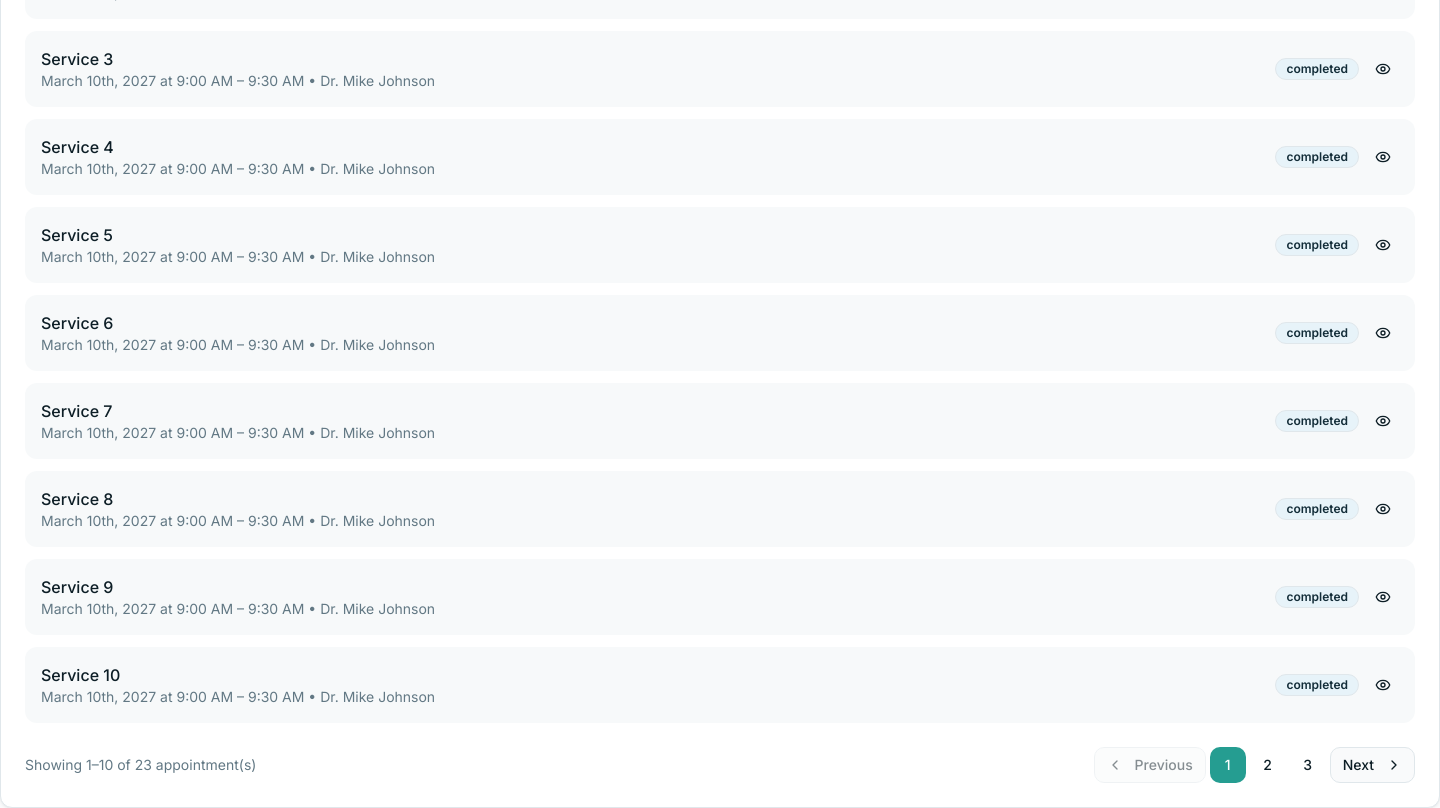
Scenario: My Appointments, one page at a time › shows the next ten on page two, and the remainder on the last page
(page scrolled)
Click the button named "Page 2". click: [1268, 765]
box: [1250,747,1286,783]
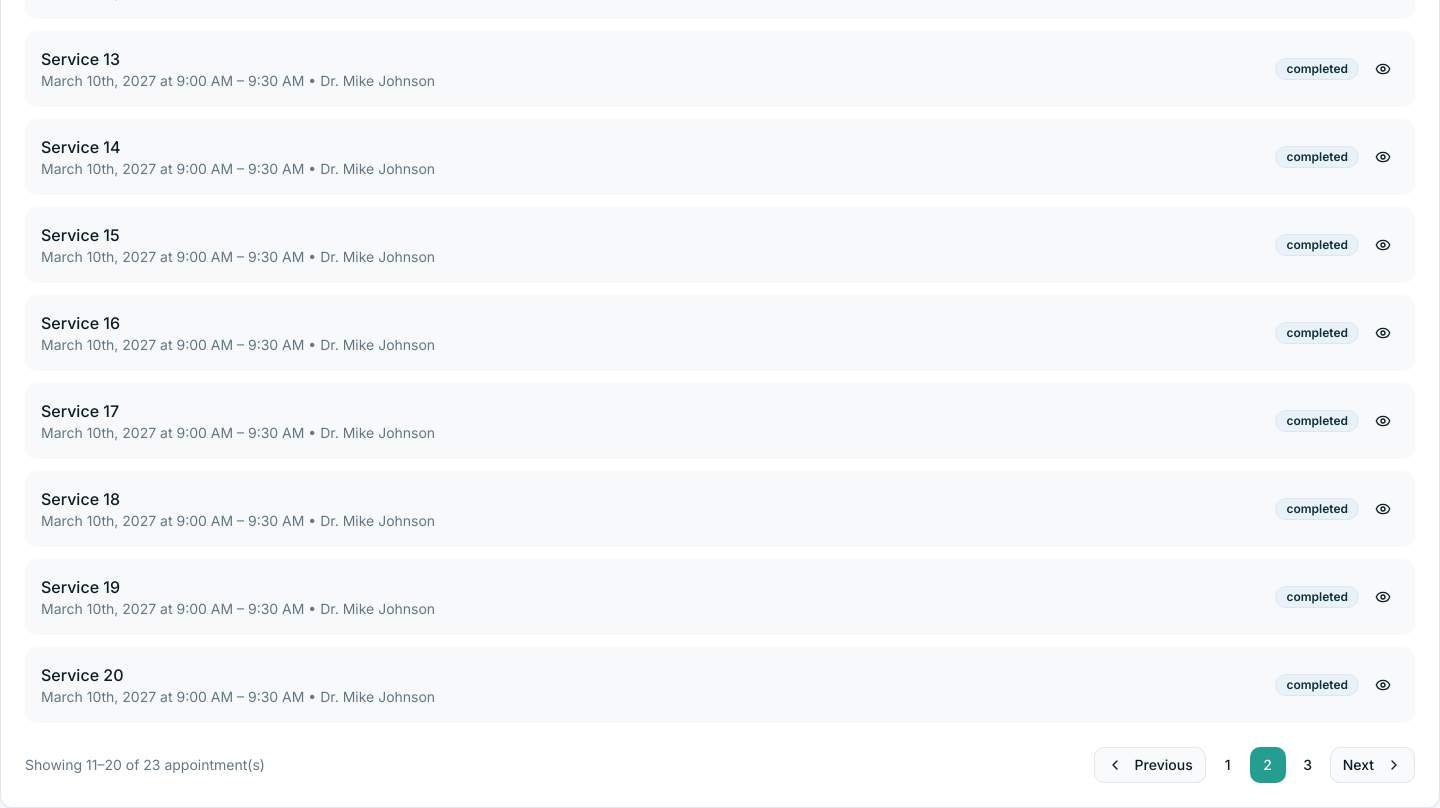
Expected: the text "Service 10" is gone
Click the button named "Page 3". click: [1308, 765]
box: [1290,747,1326,783]
(page scrolled)
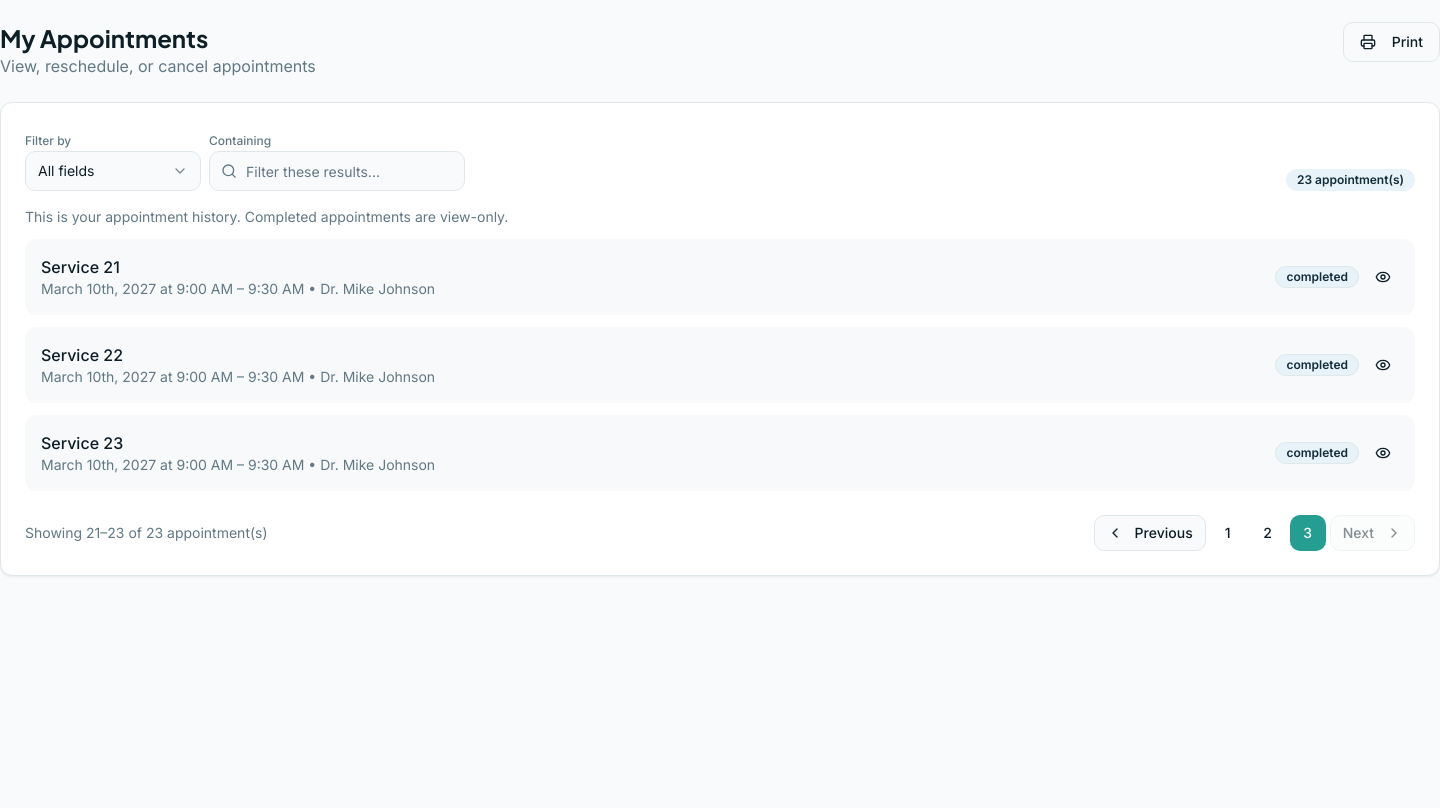
Expected: the text "Service 21" is shown, [41,257,120,277]
Expected: the text "Showing 21–23 of 23 appointment(s)" is shown, [25,523,268,543]
